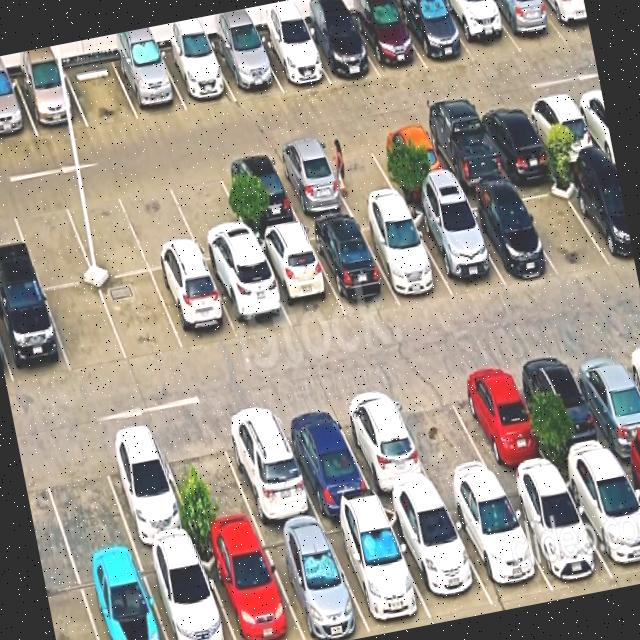empty: (386, 372, 499, 496), (156, 421, 260, 542), (37, 439, 135, 566), (511, 173, 612, 273), (166, 164, 254, 261), (62, 185, 150, 280), (117, 177, 202, 271), (98, 271, 184, 363), (10, 195, 94, 289), (44, 282, 127, 374), (317, 135, 400, 211), (64, 59, 139, 128)
occupied: (322, 508, 433, 636), (501, 474, 614, 592), (259, 522, 371, 640), (383, 499, 494, 618), (443, 485, 553, 605), (448, 361, 555, 483), (216, 404, 319, 530), (331, 387, 438, 504), (96, 429, 197, 552), (273, 398, 377, 517), (515, 349, 616, 469), (197, 533, 304, 640), (559, 459, 640, 585), (408, 200, 506, 297), (457, 189, 556, 285), (254, 228, 346, 330), (138, 544, 235, 640), (305, 218, 399, 316), (356, 210, 453, 303), (565, 341, 640, 457), (152, 262, 239, 351), (76, 555, 167, 640), (205, 253, 292, 340), (563, 164, 635, 266), (419, 113, 508, 193), (0, 287, 71, 386), (216, 154, 301, 235), (269, 145, 352, 223), (369, 125, 454, 198), (474, 102, 556, 177), (522, 92, 602, 165), (349, 4, 427, 78), (395, 0, 474, 69), (302, 16, 380, 85), (438, 0, 521, 64), (159, 44, 236, 111), (15, 67, 88, 137), (112, 51, 187, 119), (255, 28, 331, 92), (211, 37, 282, 101), (487, 0, 567, 52), (0, 77, 38, 144), (539, 0, 591, 43)
